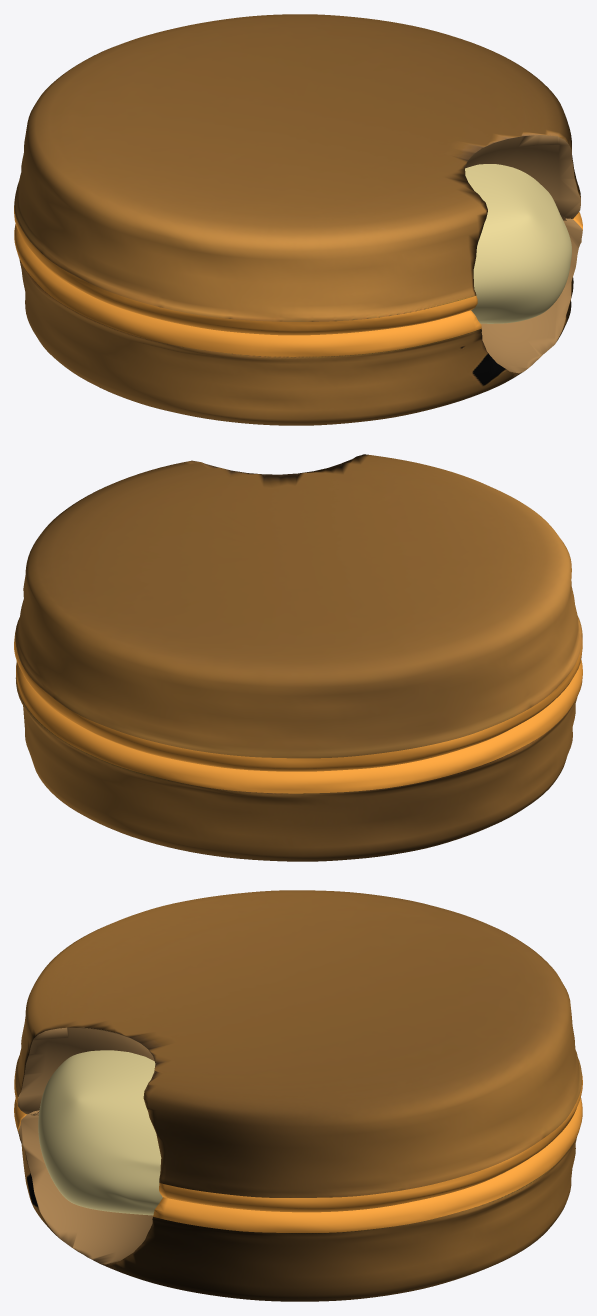
Rendered from butter1.glb.
The picture shows the model from 3 angles, top to bottom: view 1: azimuth 30°, elevation 25°; view 2: azimuth 150°, elevation 25°; view 3: azimuth 270°, elevation 25°; orthographic projection.
Parts seen in each view (by area): view 1: Cylinder, Mball.002; view 2: Cylinder; view 3: Cylinder, Mball.002.
Boxes of the visible parts, <box> form: Cylinder: <box>14,14,582,425</box>; Mball.002: <box>465,164,571,323</box>; Cylinder: <box>14,454,582,861</box>; Cylinder: <box>14,890,582,1301</box>; Mball.002: <box>38,1050,162,1215</box>.
Bounding box in the file's own units: 2.07 × 0.8121 × 2.08.
Materials: 4 (1 with a texture image).
